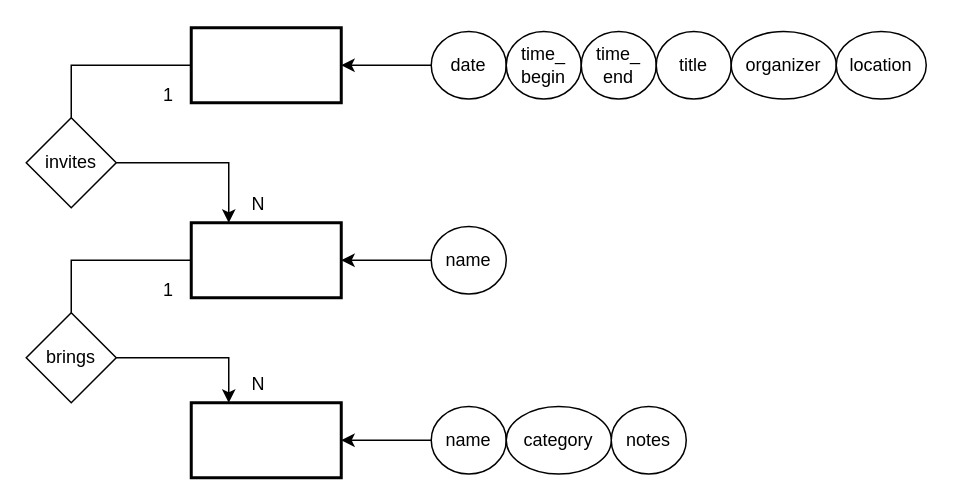
Some shapes in this 953 by 504 pixel diagram are drawn without their labels. The centre of each missing label's shape, as x and y in pixels:
"Contributions" belongs at point (265, 439).
"Potlucks" belongs at point (265, 65).
"Subgroups" belongs at point (265, 259).
